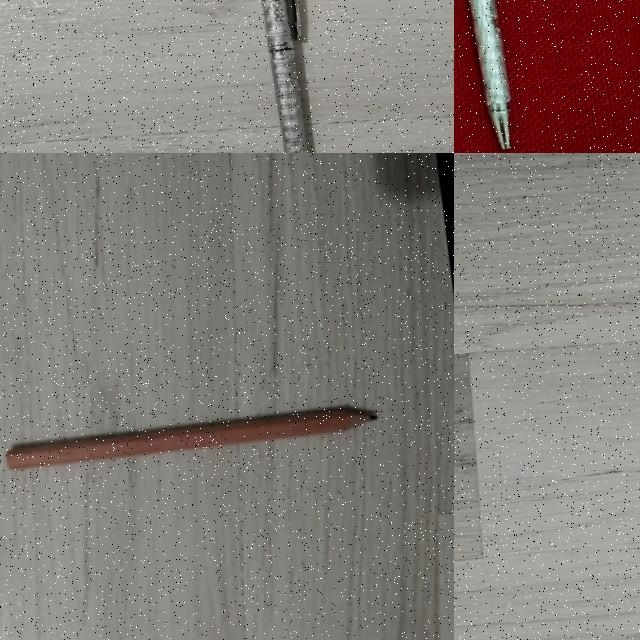pencil: (6, 409, 376, 469)
signature pen: (262, 0, 307, 153), (467, 0, 510, 149)
